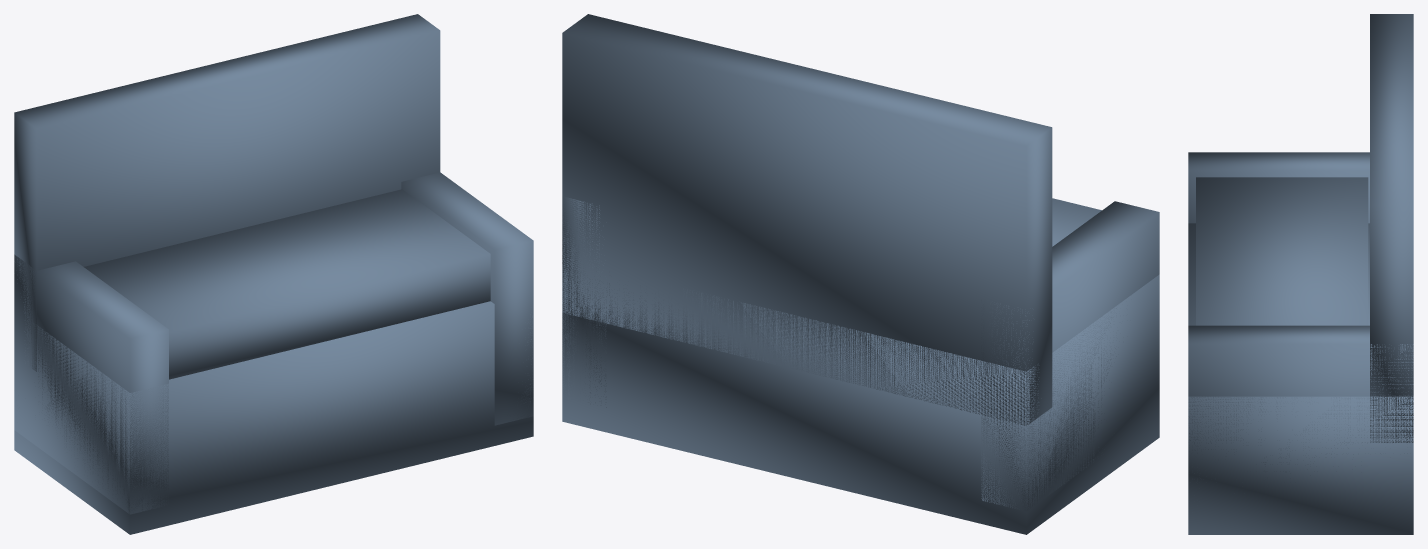
The model's file is loveseat__tall.glb.
The picture shows the model from 3 angles, left to right: view 1: azimuth 30°, elevation 25°; view 2: azimuth 150°, elevation 25°; view 3: azimuth 270°, elevation 25°; orthographic projection. The views are drawn at different scales.
Visible parts, largest first — view 1: world; view 2: world; view 3: world.
Boxes of the visible parts, x1,y1,x2,y2 form: world: (14,14,533,534); world: (562,14,1159,534); world: (1188,14,1413,534).
Bounding box in the file's own units: 1.45 × 1.19 × 0.72.
